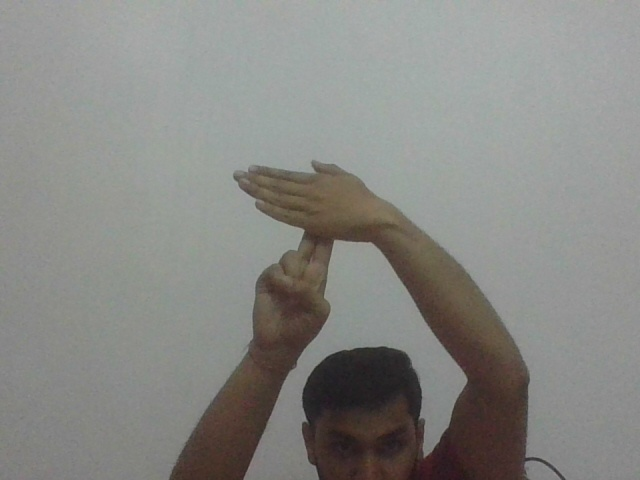N: (226, 156, 369, 263)
